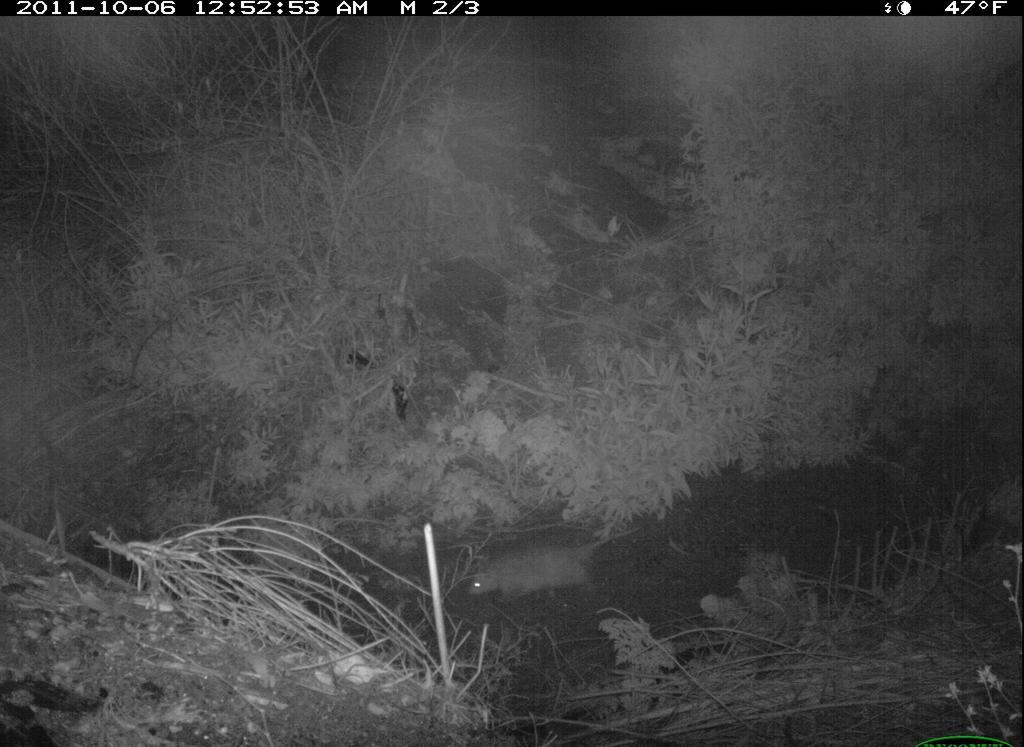opossum: (468, 527, 638, 603)
